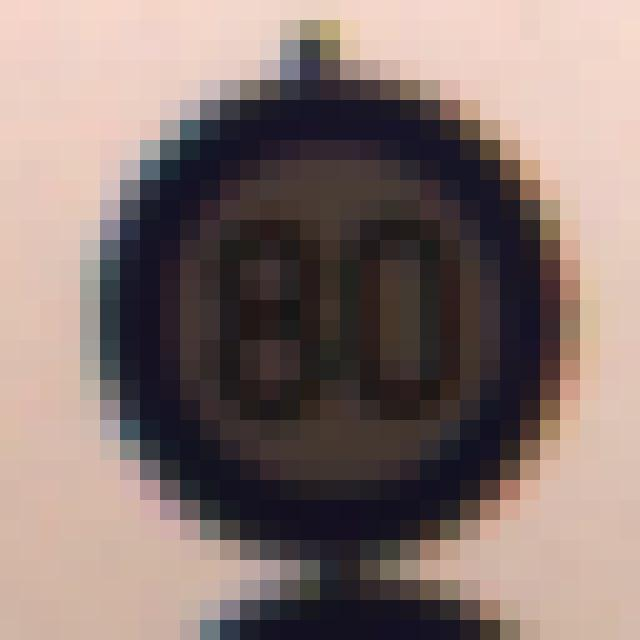SPEED-LIMIT-80: (89, 60, 564, 578)
